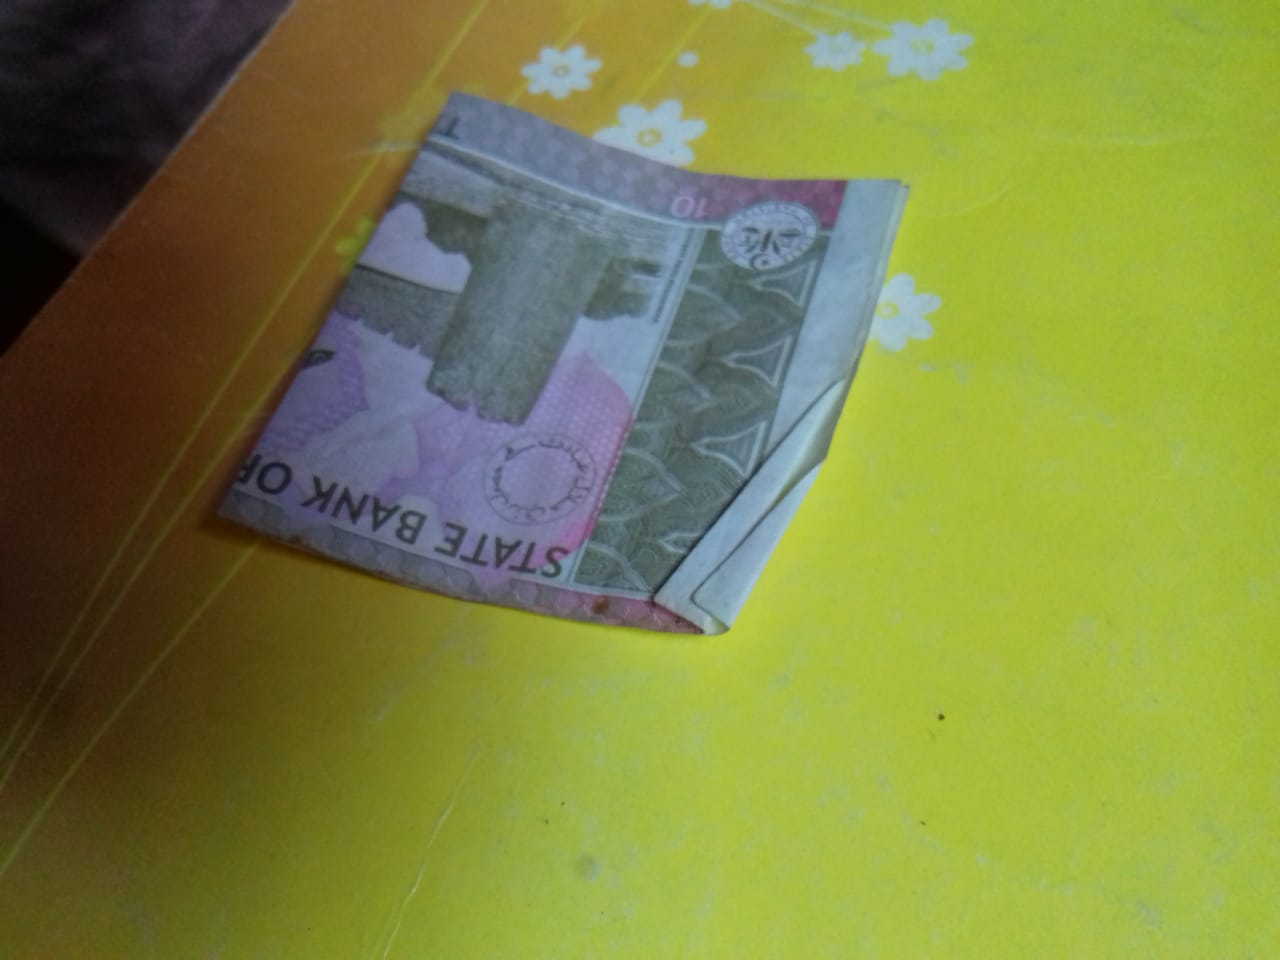10 rupee: (182, 41, 971, 645)
